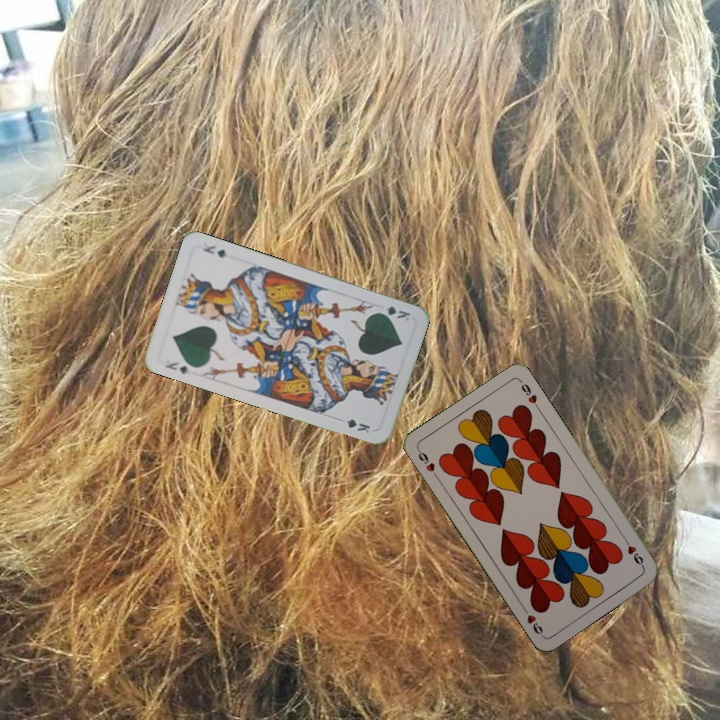GK: (373, 302, 413, 324), (161, 358, 194, 377)
H9: (413, 445, 441, 481), (620, 534, 647, 571)
